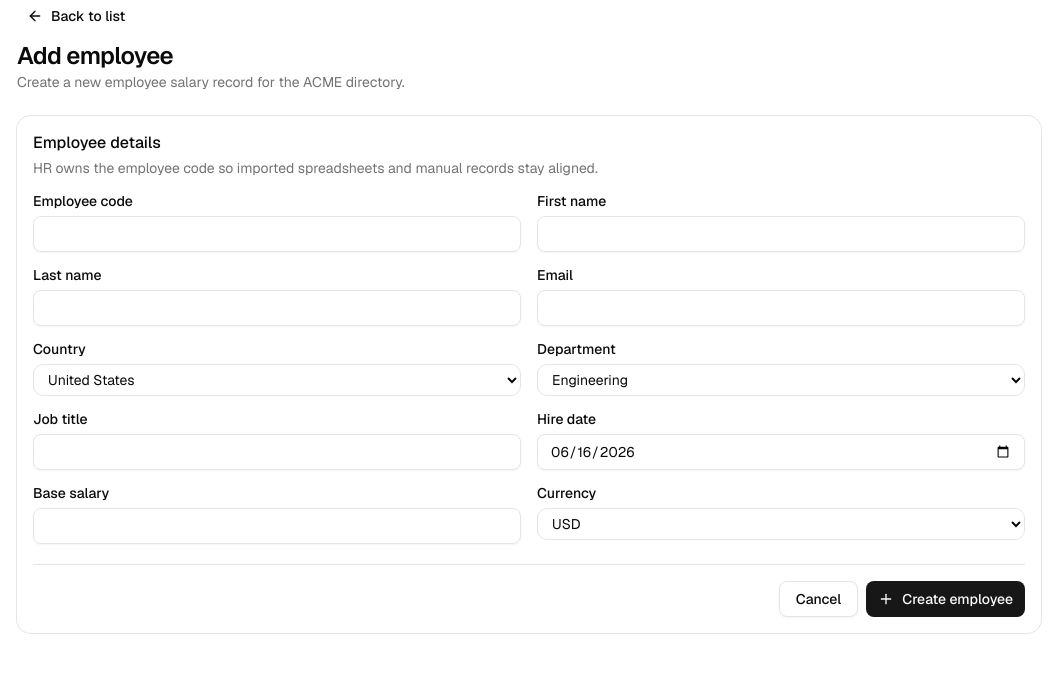
it: CreateEmployeeClient › displays a 409 conflict as an inline employee code error
The width and height of the screenshot is (1059, 679).
Type "ACME-99999" into the field labelled "Employee code". click: (277, 234)
box: x1=33 y1=216 x2=521 y2=252
Type "Test" into the field labelled "First name". click: (781, 234)
box: x1=537 y1=216 x2=1025 y2=252
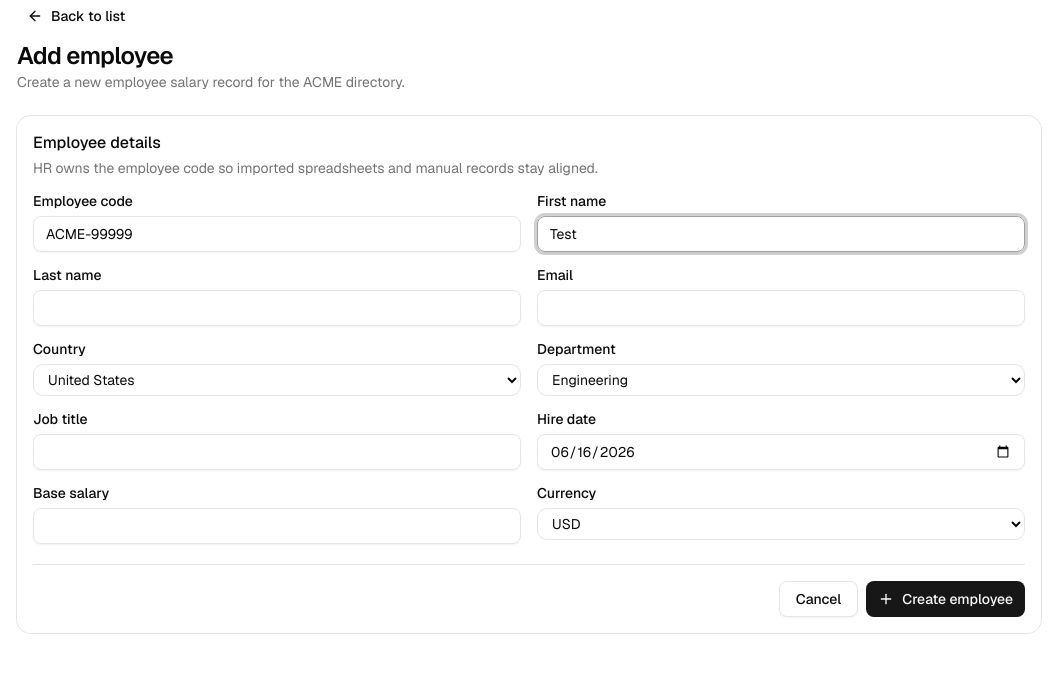
Type "User" into the field labelled "Last name". click: (277, 308)
box: x1=33 y1=290 x2=521 y2=326
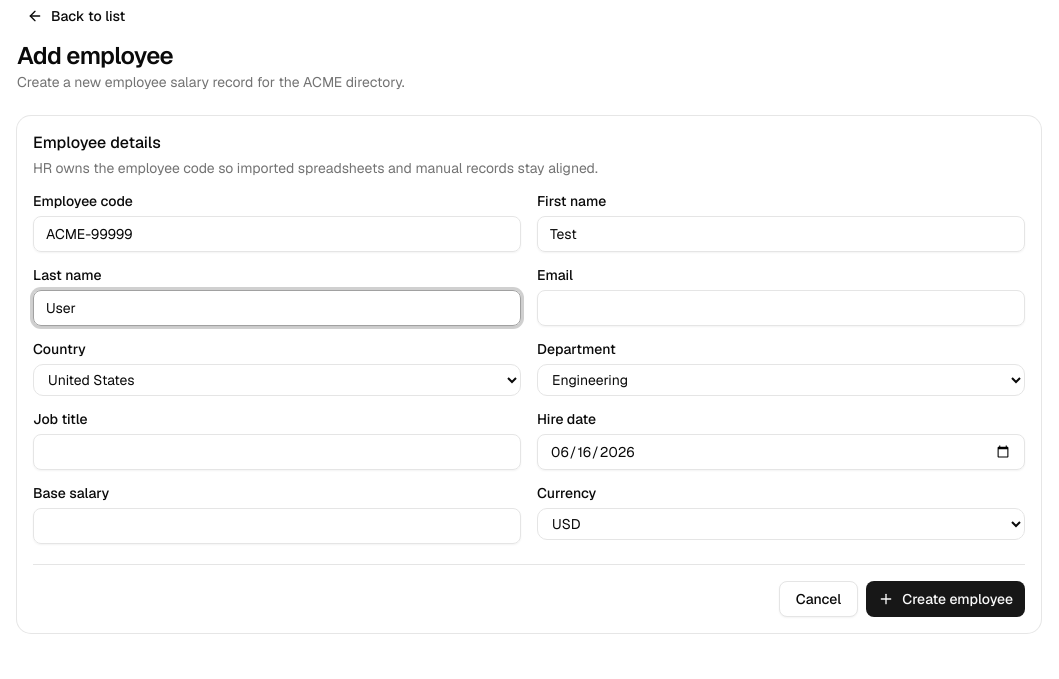
Type "test.user@acme.com" into the field labelled "Email". click: (781, 308)
box: x1=537 y1=290 x2=1025 y2=326
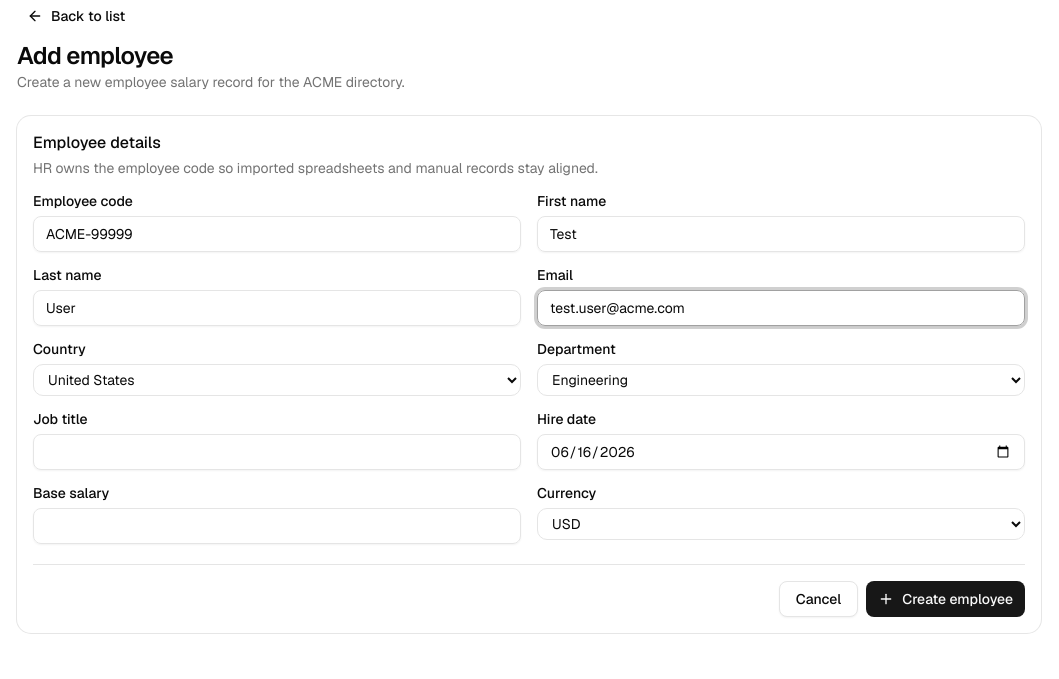
Type "Tester" into the field labelled "Job title". click: (277, 452)
box: x1=33 y1=434 x2=521 y2=470
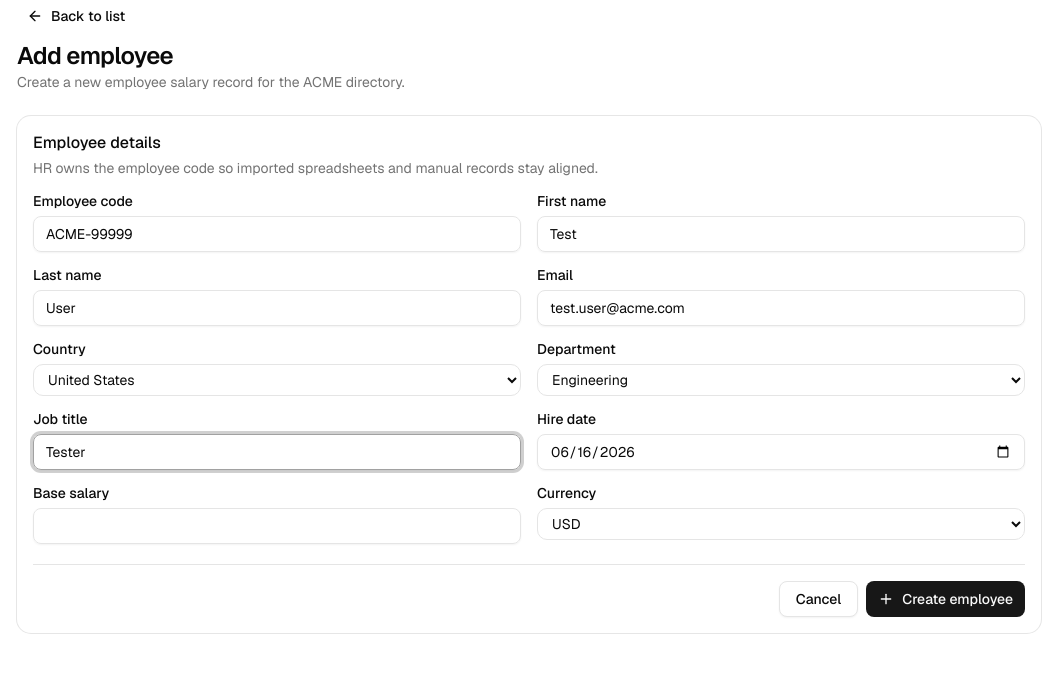
Type "100000" into the field labelled "Base salary". click: (277, 526)
box: x1=33 y1=508 x2=521 y2=544
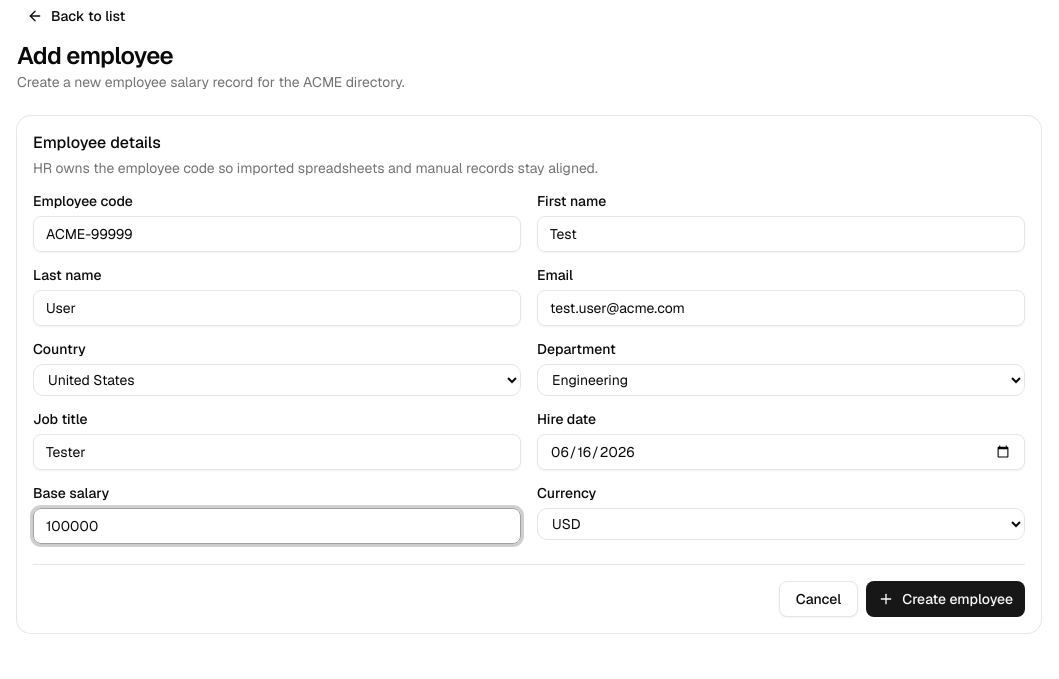
Click the button "Create employee". click: (946, 599)
box: x1=866 y1=581 x2=1025 y2=617
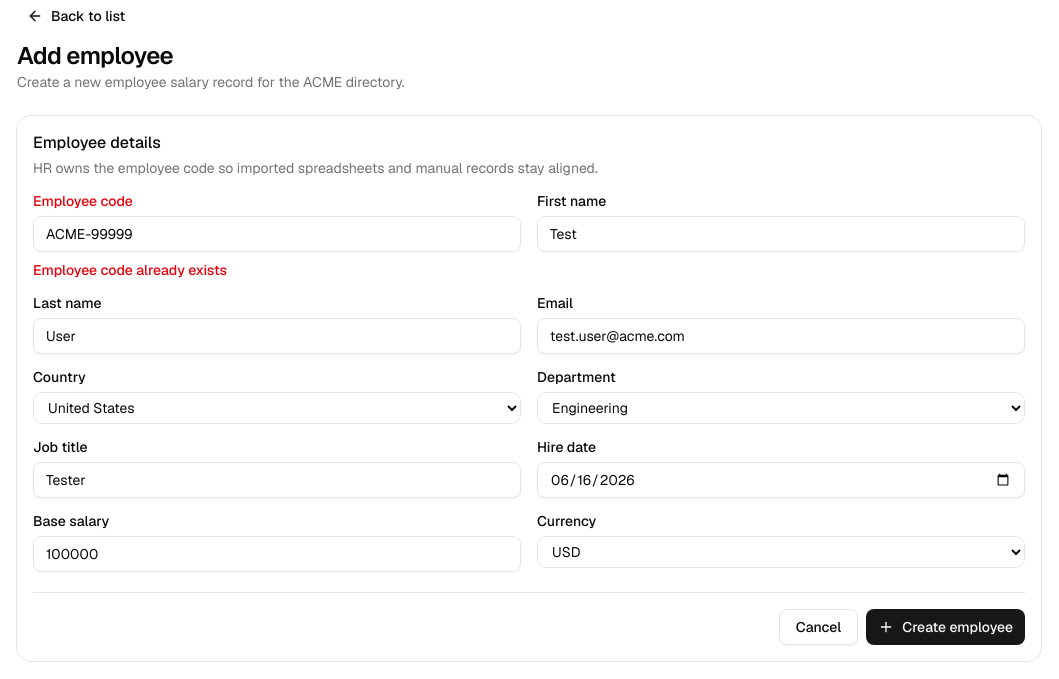
Check: the text "Employee code already exists" is shown, box x1=33 y1=261 x2=227 y2=279
